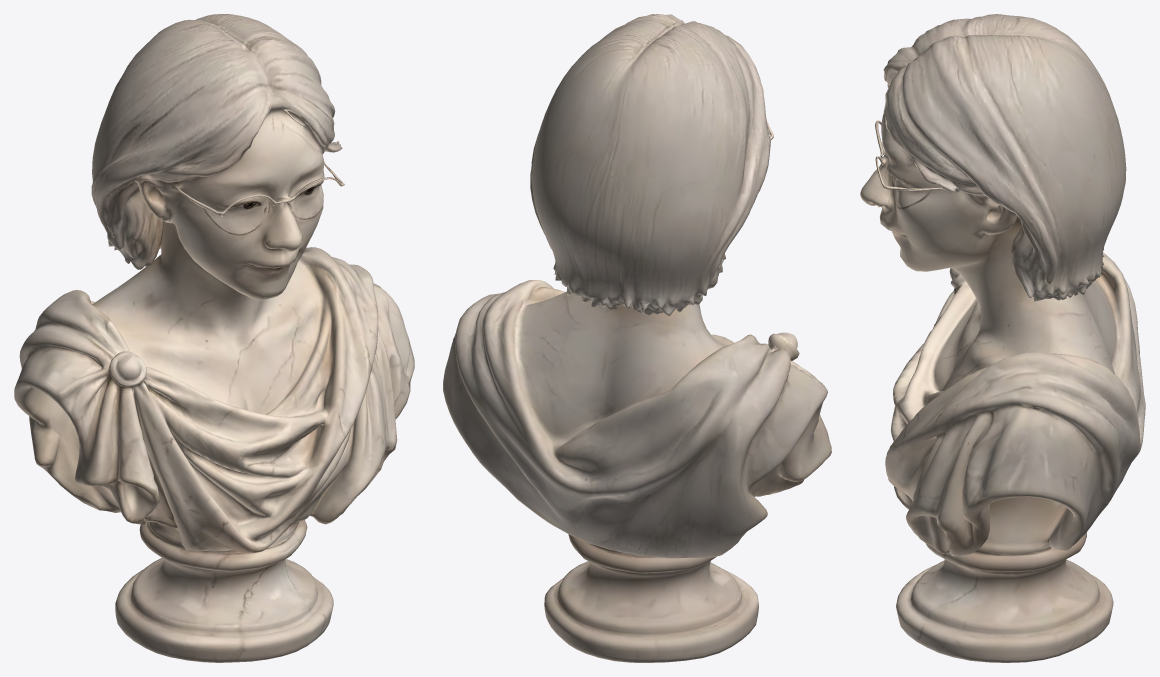
3 views of the same model, side by side, from view 1: azimuth 30°, elevation 25°; view 2: azimuth 150°, elevation 25°; view 3: azimuth 270°, elevation 25° (orthographic).
Parts seen in each view (by area): view 1: model; view 2: model; view 3: model.
Part boxes in pixels (x1,y1,x2,y2): model: (14,14,414,662); model: (443,14,831,662); model: (860,14,1145,662).
Bounding box in the file's own units: 1.25 × 1.9 × 0.828.
Materials: 1 (1 with a texture image).
